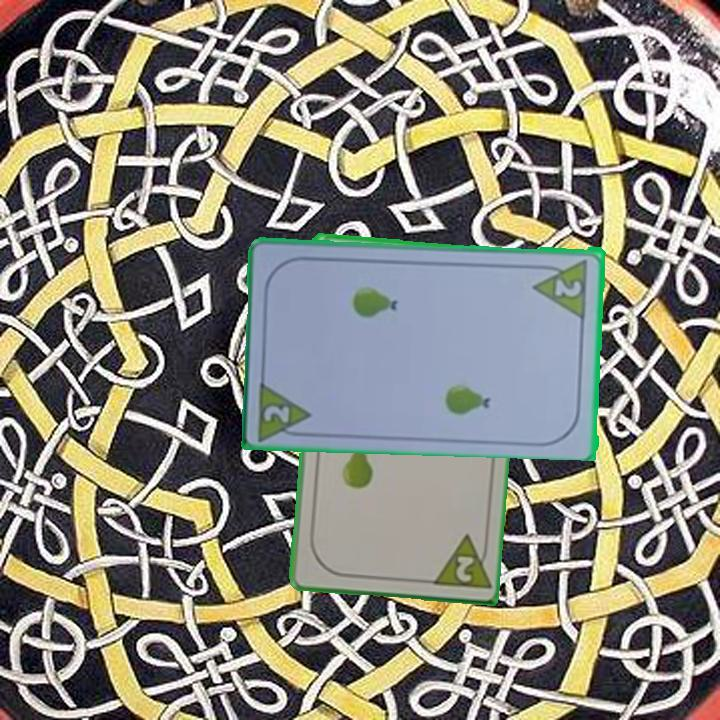2p: (425, 530, 491, 592), (254, 376, 316, 441), (531, 255, 591, 319)
